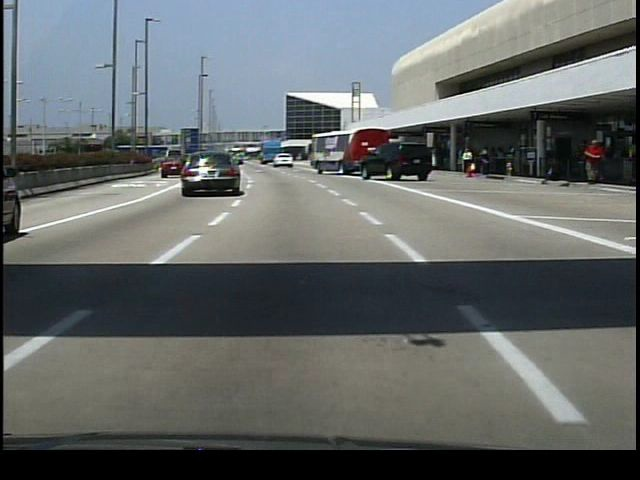person: (582, 137, 607, 187), (461, 146, 476, 180)
